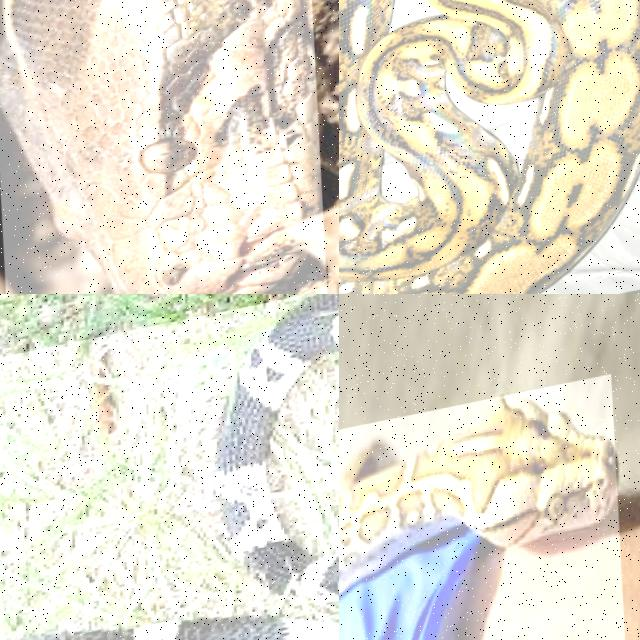Malayopython reticulatus: (339, 0, 639, 293)
Naja siamensis: (214, 294, 338, 598)
Python bivittatus: (0, 0, 318, 293), (339, 395, 617, 593)
snake: (0, 0, 318, 293), (339, 0, 639, 293), (339, 395, 617, 593), (214, 294, 338, 598)
